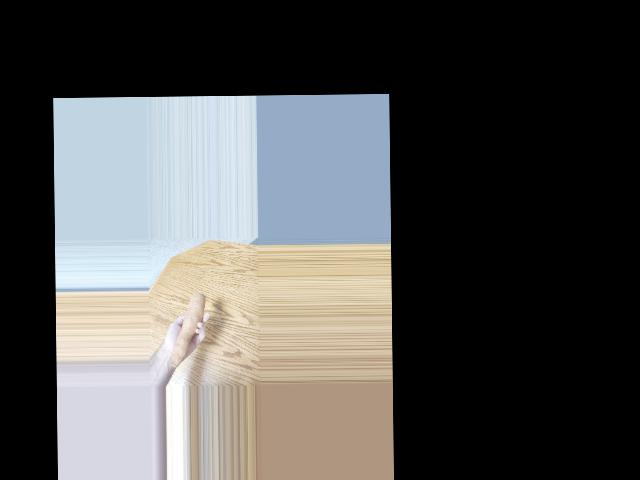sweet_potato: (168, 295, 201, 367)
